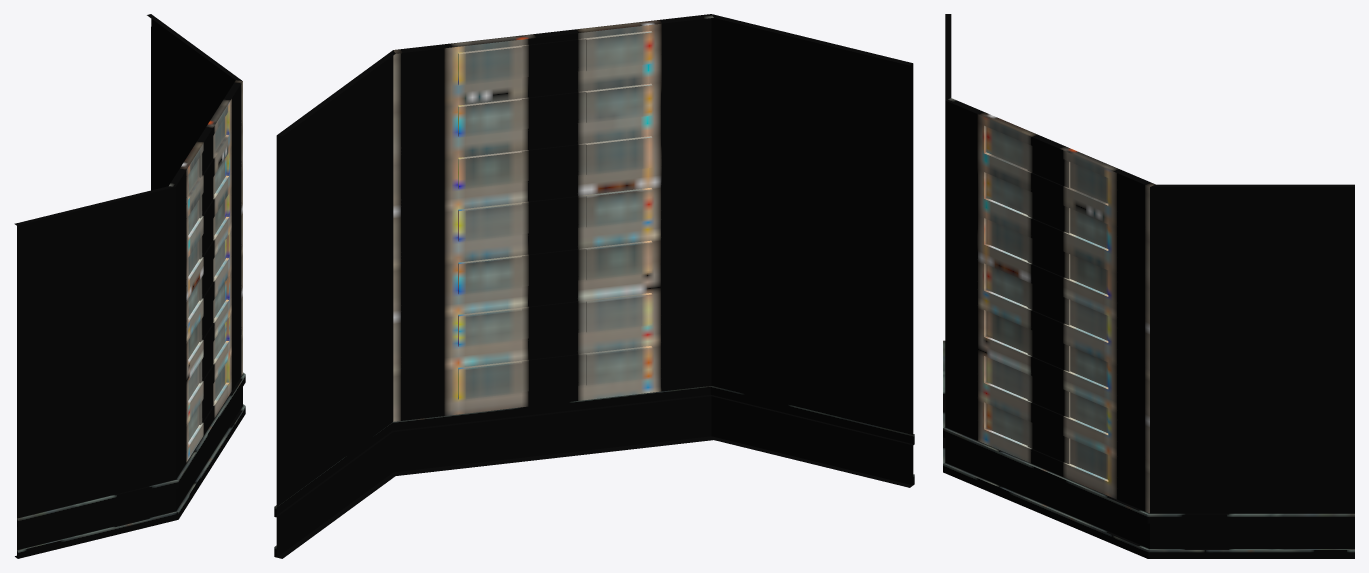
File: Pagoda_Body_Tile_Corner_Round_2500x2500_A.FBX
3 renders of one model, left to right at view 1: azimuth 30°, elevation 25°; view 2: azimuth 150°, elevation 25°; view 3: azimuth 270°, elevation 25°, orthographic. The views are drawn at different scales.
Visible parts, largest first — view 1: Geometry_Pagoda_Body_Tile_Corner_Round_2500x2500_A_LOD00; view 2: Geometry_Pagoda_Body_Tile_Corner_Round_2500x2500_A_LOD00; view 3: Geometry_Pagoda_Body_Tile_Corner_Round_2500x2500_A_LOD00.
Part boxes in pixels (left/top/right/bottom): Geometry_Pagoda_Body_Tile_Corner_Round_2500x2500_A_LOD00: left=14, top=14, right=245, bottom=558; Geometry_Pagoda_Body_Tile_Corner_Round_2500x2500_A_LOD00: left=274, top=14, right=914, bottom=558; Geometry_Pagoda_Body_Tile_Corner_Round_2500x2500_A_LOD00: left=943, top=14, right=1354, bottom=558.
Size of what is drawn, in the model's own units: 2514 by 2500 by 2514.
